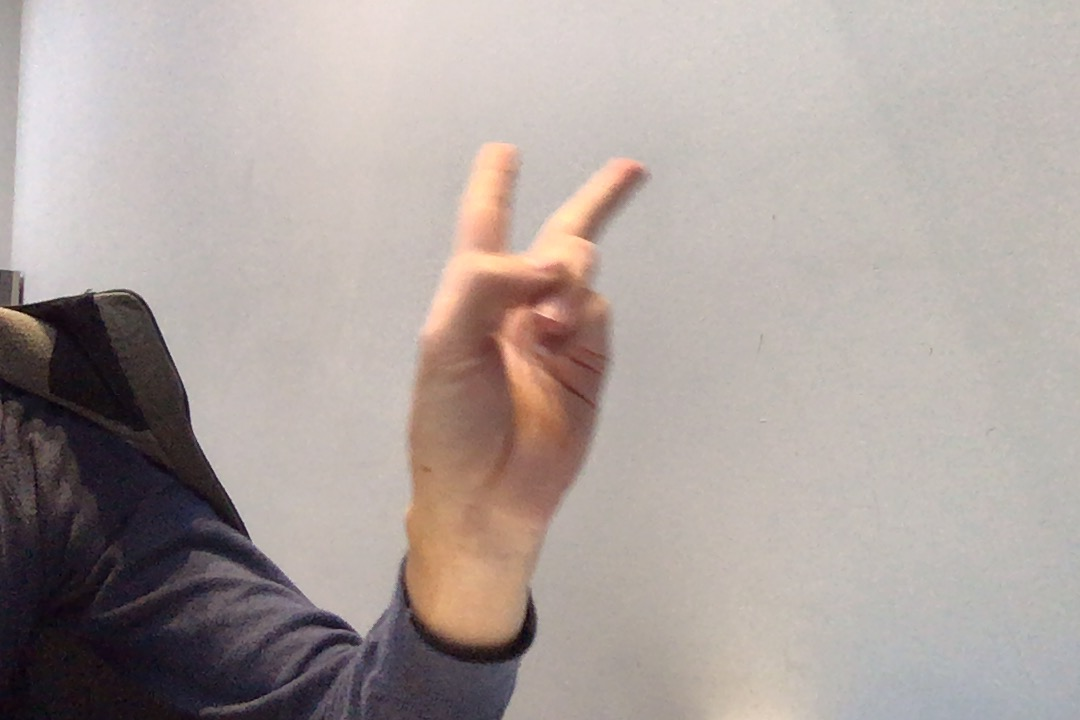peacesign: (378, 125, 663, 545)
